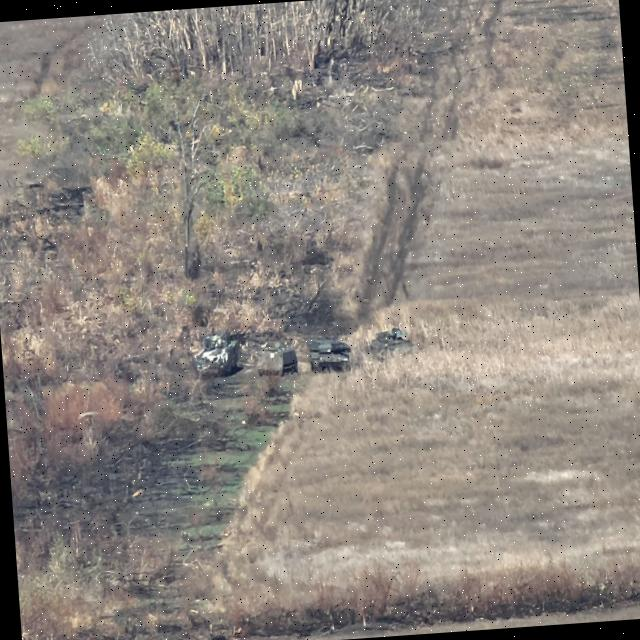APC: (193, 329, 244, 383), (371, 327, 413, 363), (256, 345, 299, 379)
MBT: (308, 334, 357, 377)
